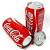coke: (1, 21, 21, 44), (25, 10, 34, 34)
